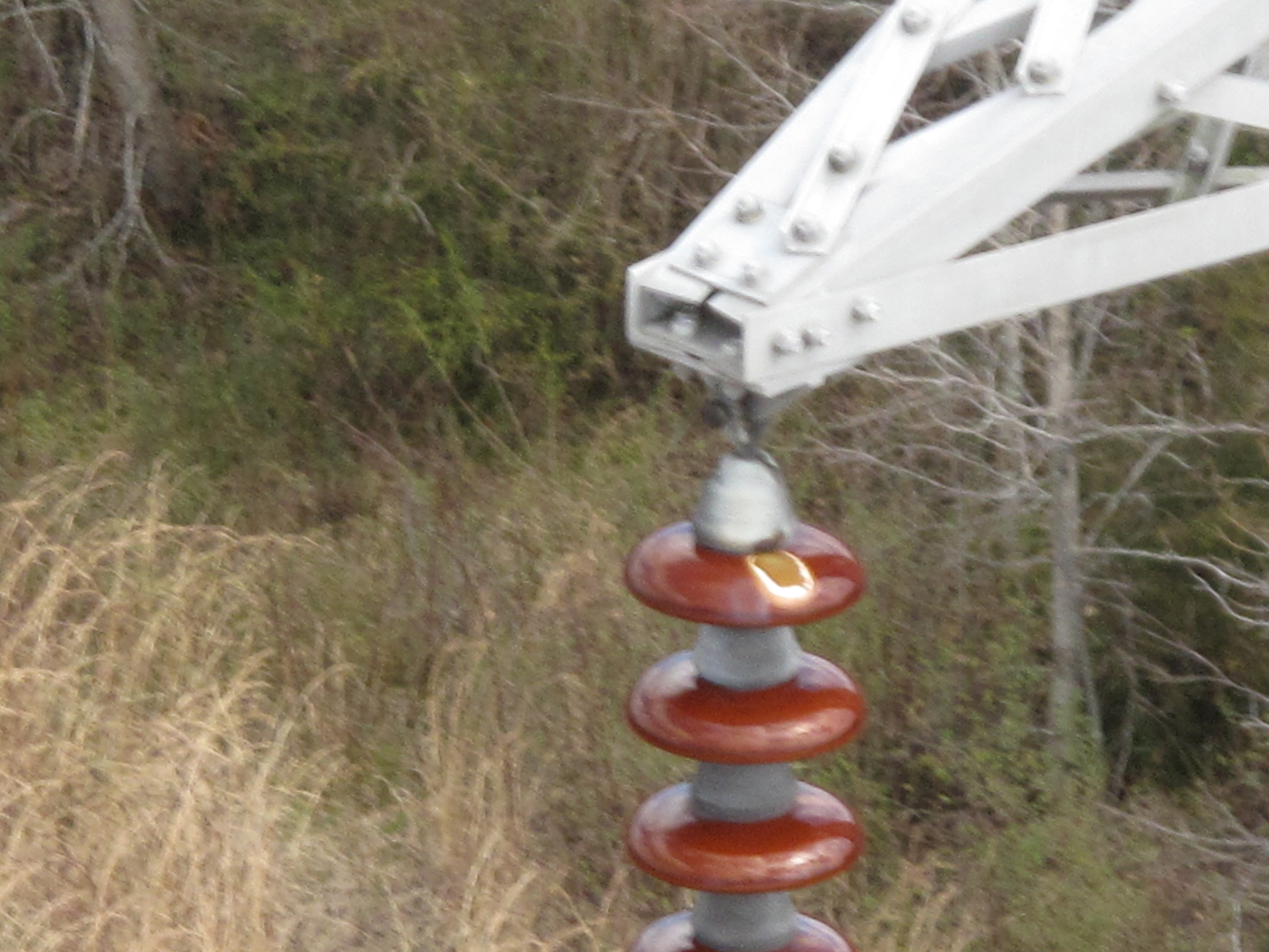Flashover: (741, 533, 820, 599)
insulator: (621, 500, 864, 952)
